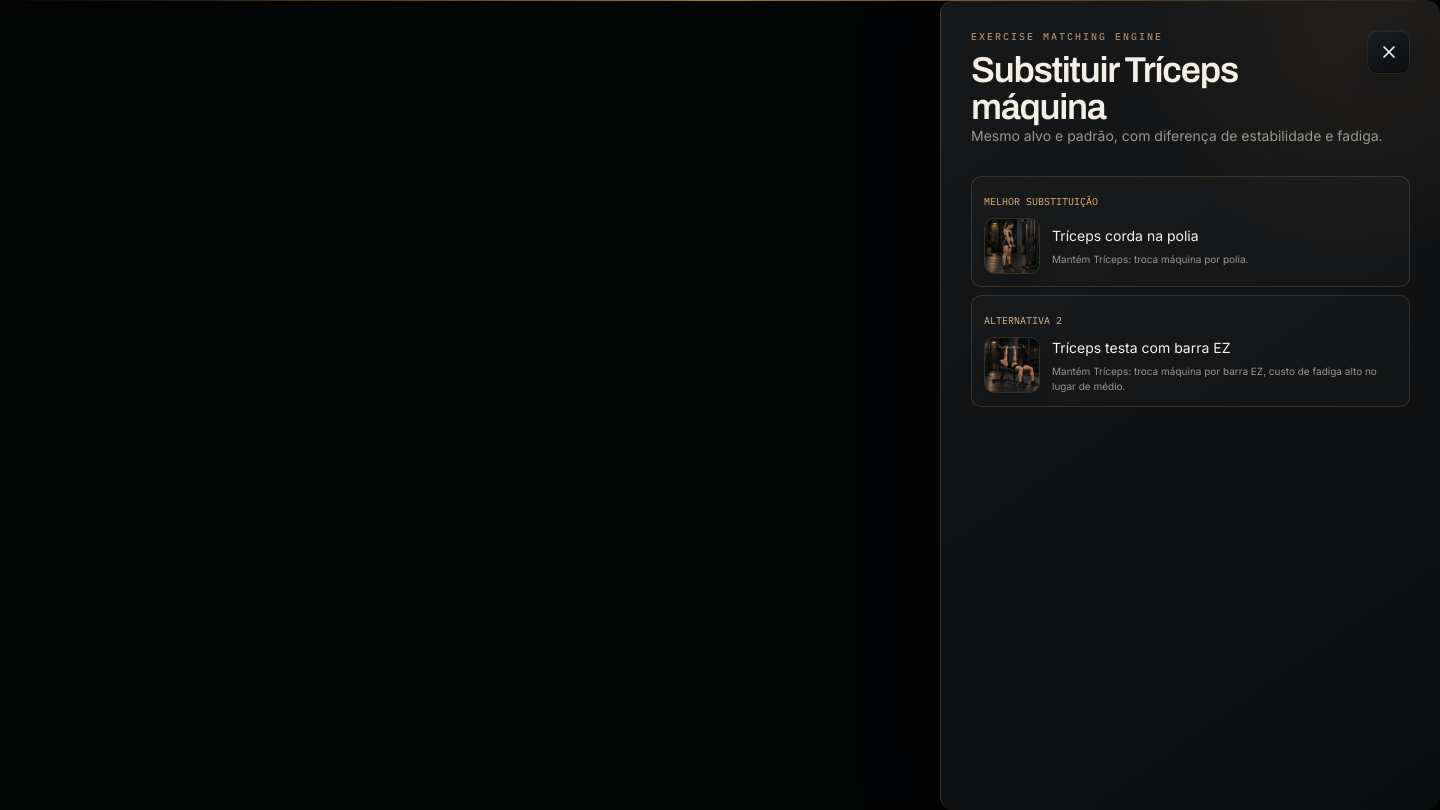
Test case: recusa do servidor mostra a mensagem e NÃO fecha o painel
Click the button with test id "alternative-1": (1190, 231) [971, 176, 1410, 287]
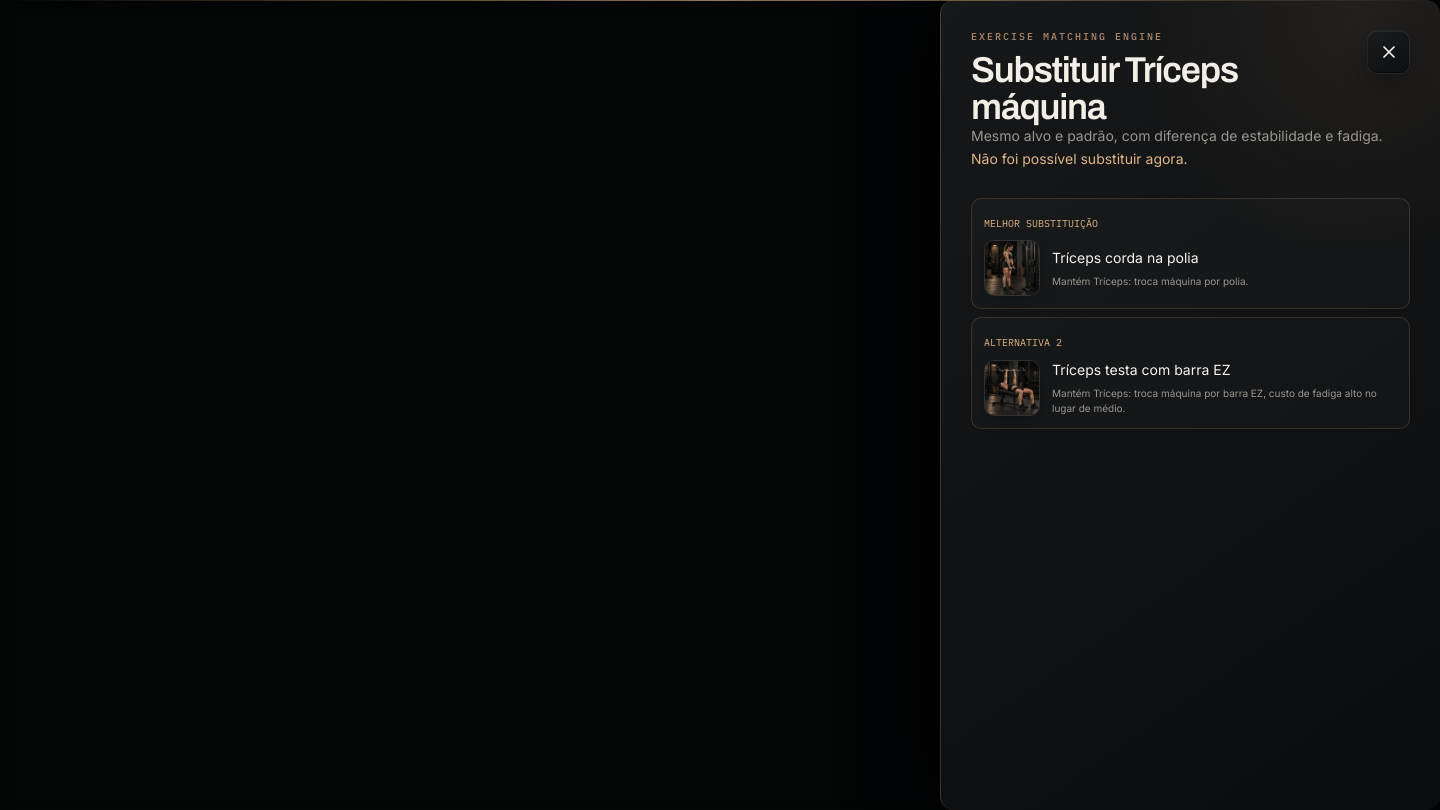
Result: the text "Não foi possível substituir agora." is shown at [971, 150, 1188, 167]
